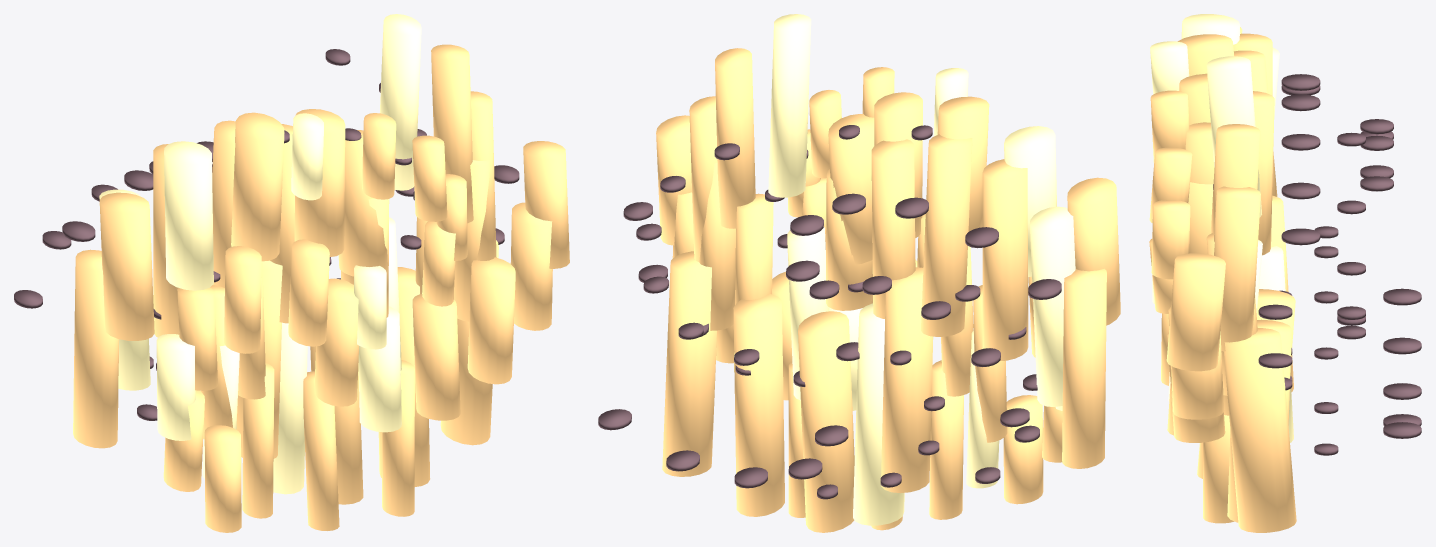
Rendered from coral-tube-orange-01.glb.
3 views of the same model, side by side, from view 1: azimuth 30°, elevation 25°; view 2: azimuth 150°, elevation 25°; view 3: azimuth 270°, elevation 25° (orthographic). The views are drawn at different scales.
Visible parts, largest first — view 1: coral_tube_orange_01_tube_38, coral_tube_orange_01_tube_43, coral_tube_orange_01_tube_35, coral_tube_orange_01_tube_27, coral_tube_orange_01_tube_26, coral_tube_orange_01_tube_45, coral_tube_orange_01_tube_18, coral_tube_orange_01_tube_37, coral_tube_orange_01_tube_34, coral_tube_orange_01_tube_02, coral_tube_orange_01_tube_19, coral_tube_orange_01_tube_36 (+33 smaller); view 2: coral_tube_orange_01_tube_23, coral_tube_orange_01_tube_31, coral_tube_orange_01_tube_39, coral_tube_orange_01_tube_07, coral_tube_orange_01_tube_38, coral_tube_orange_01_tube_22, coral_tube_orange_01_tube_14, coral_tube_orange_01_tube_45, coral_tube_orange_01_tube_15, coral_tube_orange_01_tube_30, coral_tube_orange_01_tube_37, coral_tube_orange_01_tube_06 (+29 smaller); view 3: coral_tube_orange_01_tube_39, coral_tube_orange_01_tube_42, coral_tube_orange_01_tube_29, coral_tube_orange_01_tube_45, coral_tube_orange_01_tube_37, coral_tube_orange_01_tube_34, coral_tube_orange_01_tube_16, coral_tube_orange_01_tube_06, coral_tube_orange_01_tube_44, coral_tube_orange_01_tube_32, coral_tube_orange_01_tube_24, coral_tube_orange_01_tube_40 (+37 smaller).
Boxes of the visible parts, <box> form: coral_tube_orange_01_tube_38: <box>73,249,119,448</box>; coral_tube_orange_01_tube_43: <box>99,192,154,340</box>; coral_tube_orange_01_tube_35: <box>164,141,213,290</box>; coral_tube_orange_01_tube_27: <box>231,112,284,261</box>; coral_tube_orange_01_tube_26: <box>467,257,515,384</box>; coral_tube_orange_01_tube_45: <box>380,14,421,190</box>; coral_tube_orange_01_tube_18: <box>412,294,460,420</box>; coral_tube_orange_01_tube_37: <box>431,44,473,223</box>; coral_tube_orange_01_tube_34: <box>510,202,552,330</box>; coral_tube_orange_01_tube_02: <box>314,278,358,406</box>; coral_tube_orange_01_tube_19: <box>294,109,345,256</box>; coral_tube_orange_01_tube_36: <box>303,371,339,530</box>; coral_tube_orange_01_tube_23: <box>798,311,854,532</box>; coral_tube_orange_01_tube_31: <box>733,294,784,516</box>; coral_tube_orange_01_tube_39: <box>662,251,716,476</box>; coral_tube_orange_01_tube_07: <box>881,267,933,493</box>; coral_tube_orange_01_tube_38: <box>1062,268,1106,468</box>; coral_tube_orange_01_tube_22: <box>982,159,1028,360</box>; coral_tube_orange_01_tube_14: <box>921,134,972,336</box>; coral_tube_orange_01_tube_45: <box>768,14,811,197</box>; coral_tube_orange_01_tube_15: <box>853,303,904,525</box>; coral_tube_orange_01_tube_30: <box>1029,206,1075,406</box>; coral_tube_orange_01_tube_37: <box>715,48,755,228</box>; coral_tube_orange_01_tube_06: <box>871,139,915,318</box>; coral_tube_orange_01_tube_39: <box>1223,328,1296,532</box>; coral_tube_orange_01_tube_42: <box>1166,253,1225,371</box>; coral_tube_orange_01_tube_29: <box>1214,186,1260,351</box>; coral_tube_orange_01_tube_45: <box>1206,56,1261,216</box>; coral_tube_orange_01_tube_37: <box>1210,124,1260,233</box>; coral_tube_orange_01_tube_34: <box>1168,307,1224,419</box>; coral_tube_orange_01_tube_16: <box>1151,200,1190,279</box>; coral_tube_orange_01_tube_06: <box>1253,91,1274,255</box>; coral_tube_orange_01_tube_44: <box>1203,415,1234,523</box>; coral_tube_orange_01_tube_32: <box>1150,90,1189,162</box>; coral_tube_orange_01_tube_24: <box>1149,147,1192,222</box>; coral_tube_orange_01_tube_40: <box>1150,41,1189,94</box>.
Bounding box in the file's own units: 1.89 × 1.9 × 1.02.
